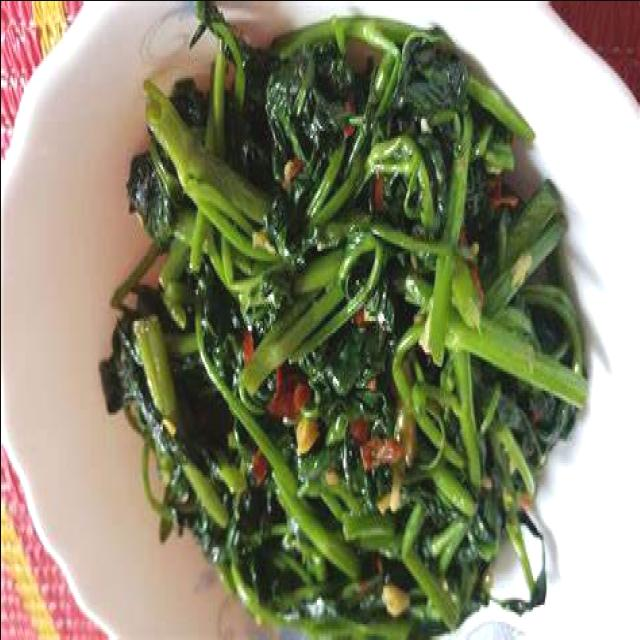tumis kangkung: (96, 0, 593, 640)
